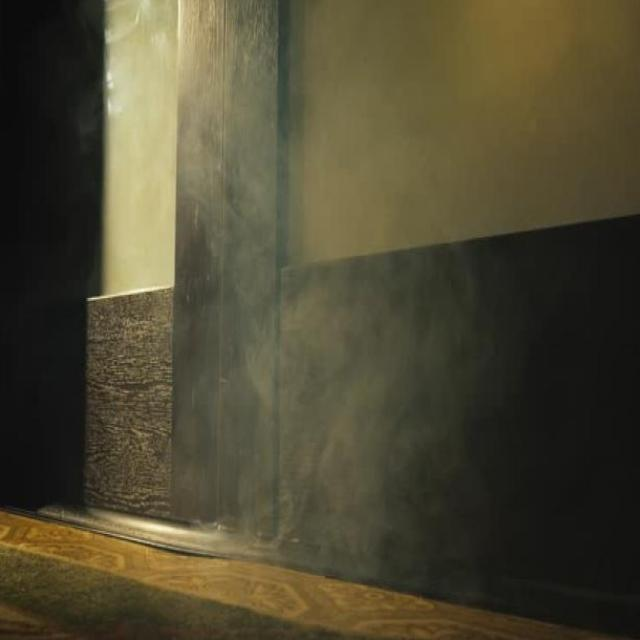fire: (74, 0, 562, 599)
